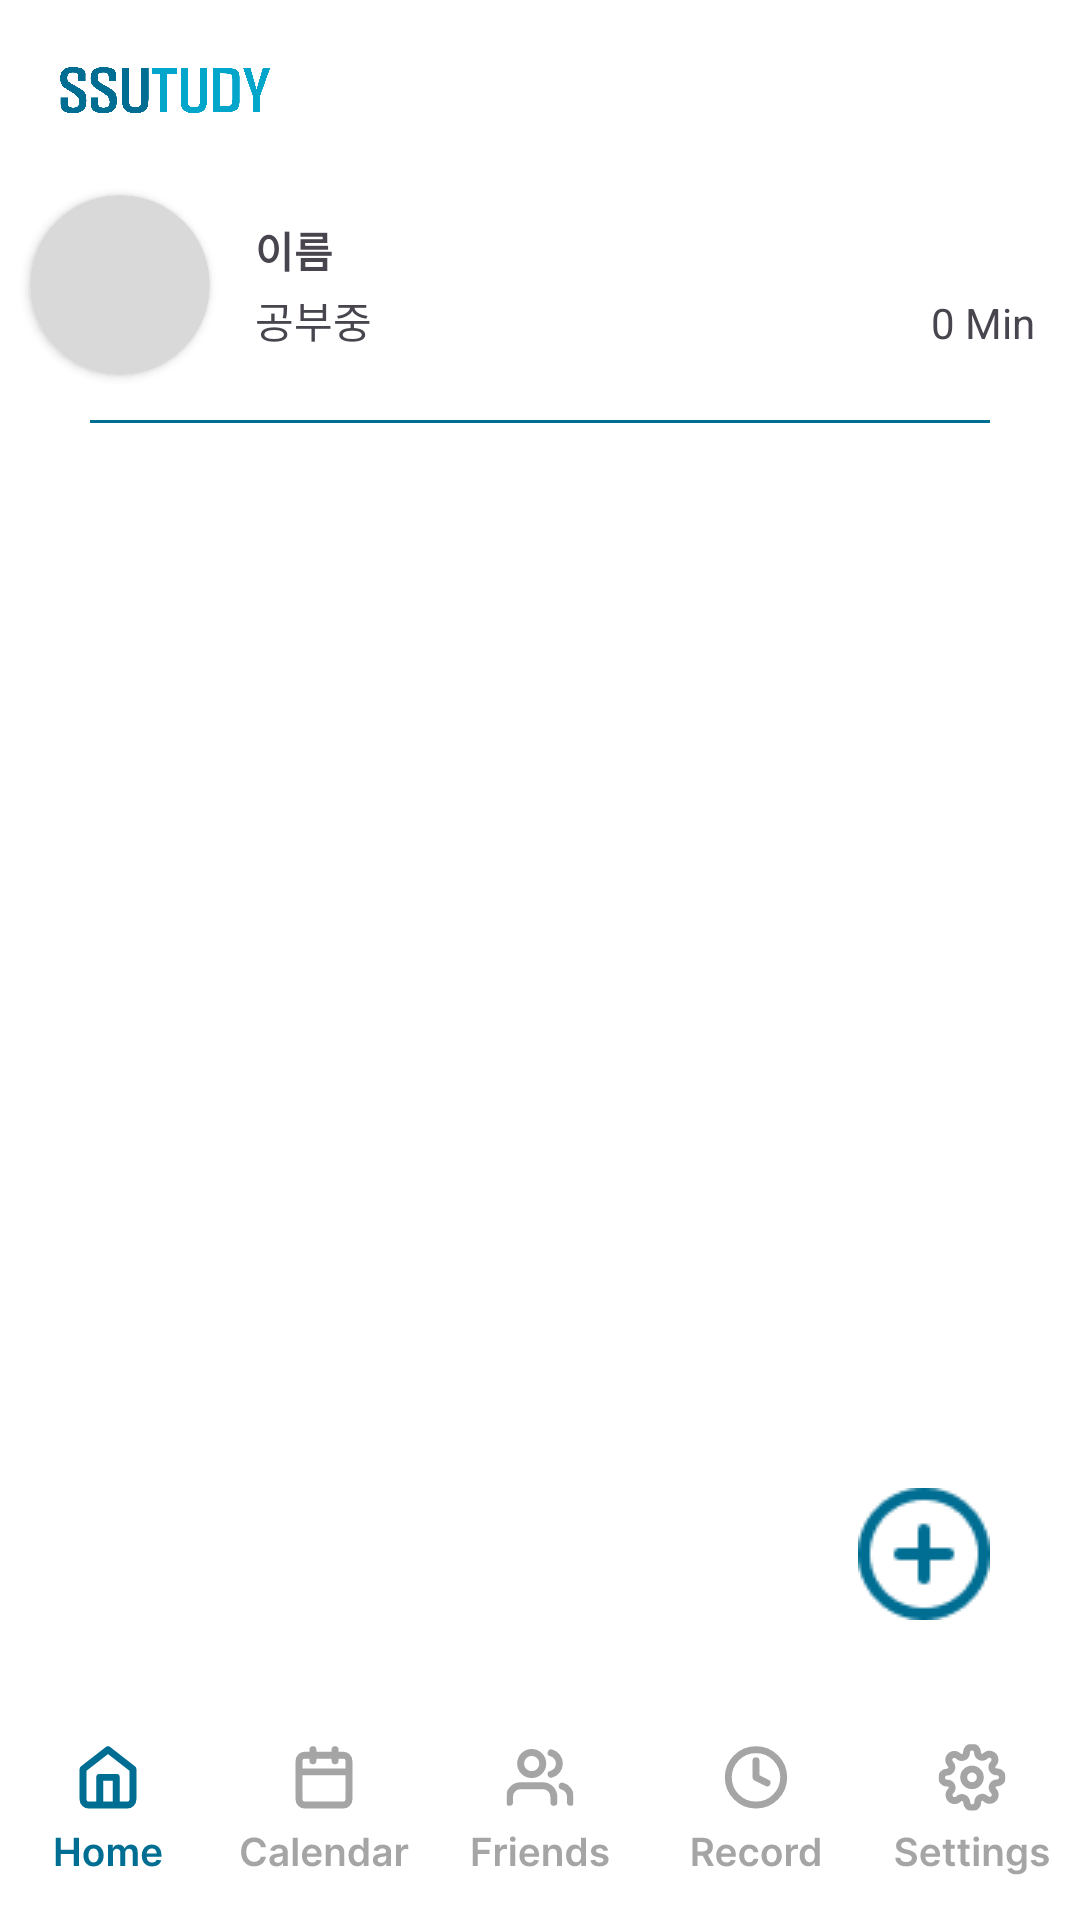

Where to tap for icons on this 1080x1920 app screen, as [x,y]:
add: [924,1554]
